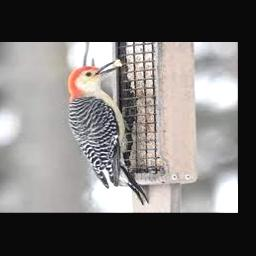Woodpecker: (69, 60, 149, 205)
